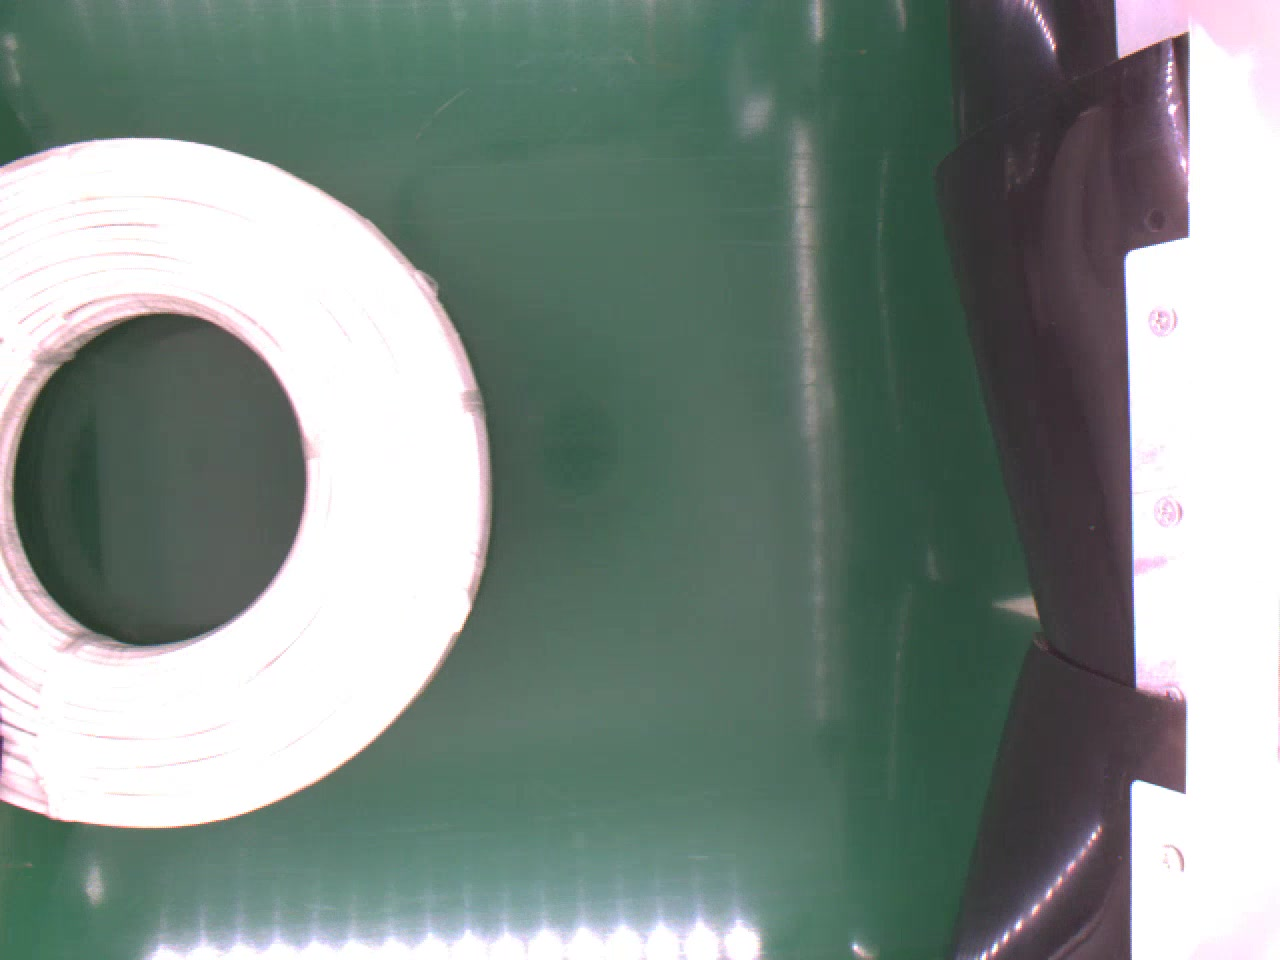white: (0, 132, 496, 834)
